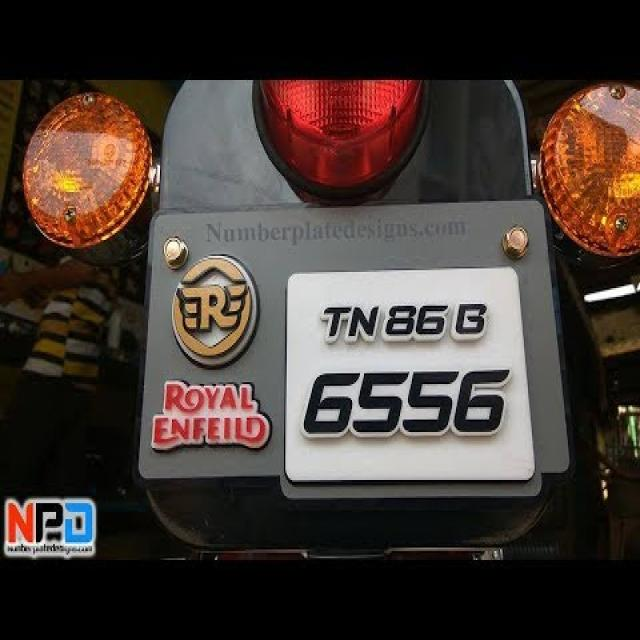license_plate: (282, 263, 534, 484)
